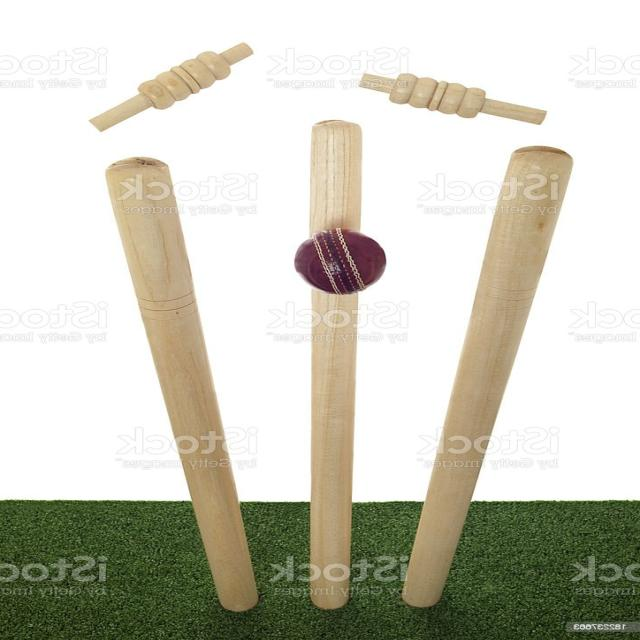ball: (294, 227, 388, 297)
stump: (88, 32, 586, 612)
